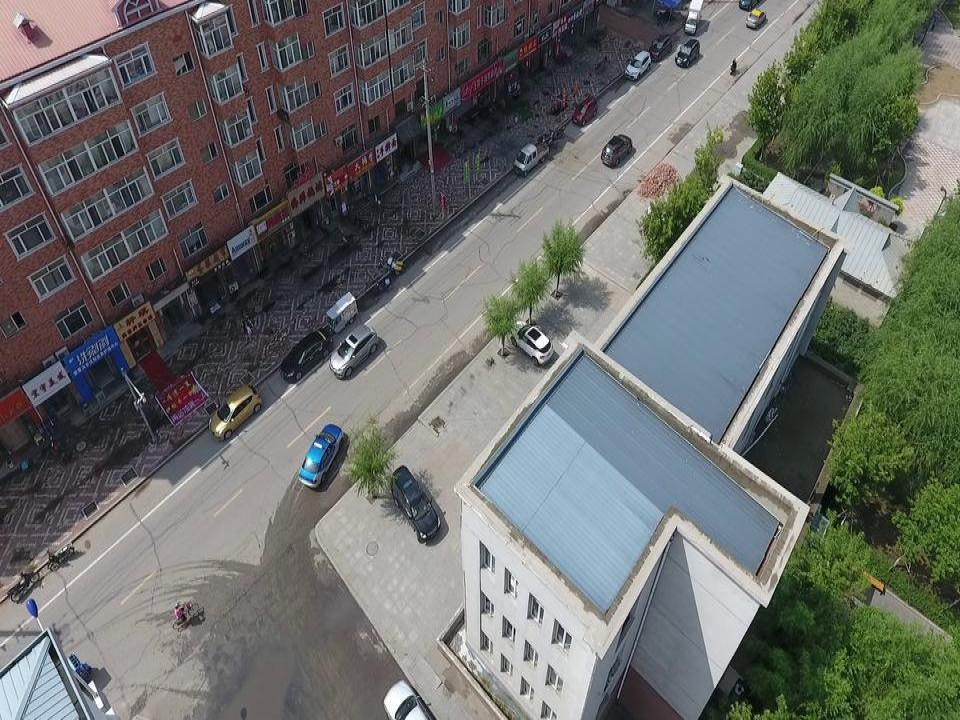car: (296, 417, 349, 495), (207, 382, 264, 441), (327, 324, 383, 381), (373, 676, 439, 720), (508, 309, 553, 364), (599, 133, 634, 171), (671, 36, 705, 75), (624, 45, 653, 83), (570, 95, 600, 128), (741, 5, 773, 31), (651, 26, 674, 62)
truck: (512, 140, 552, 181), (680, 0, 710, 35)
van: (391, 461, 445, 547), (276, 328, 334, 385)
